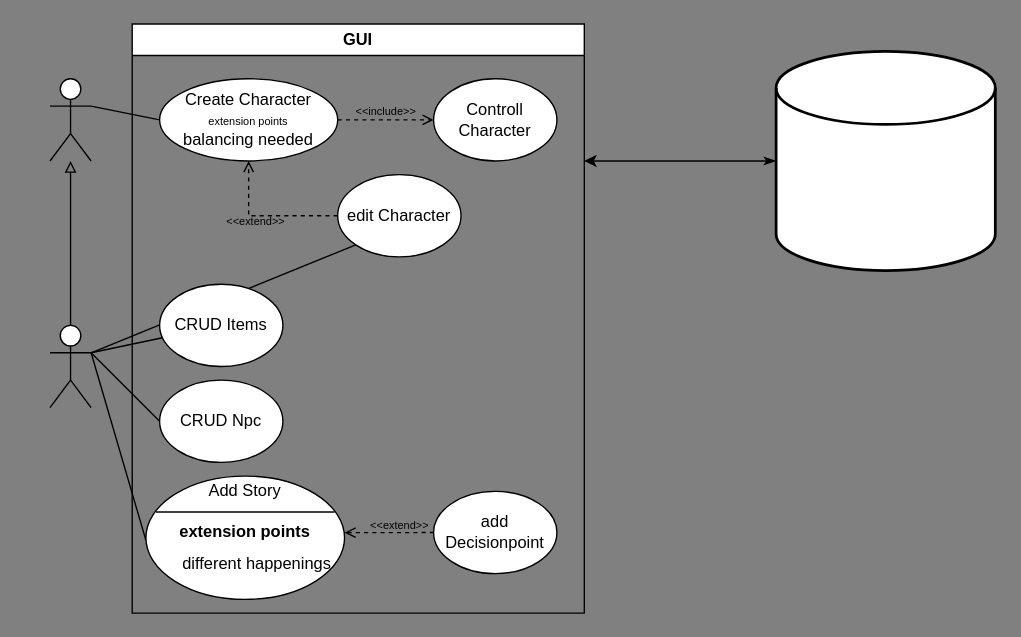
Image size: 1021x637. Some labels were removed from this diagram. Here are the shapes that lost their labels. From the top down, the box of each, then its label:
(49, 77, 91, 161): Player
(774, 49, 996, 271): Database
(49, 324, 91, 408): GameMaster
